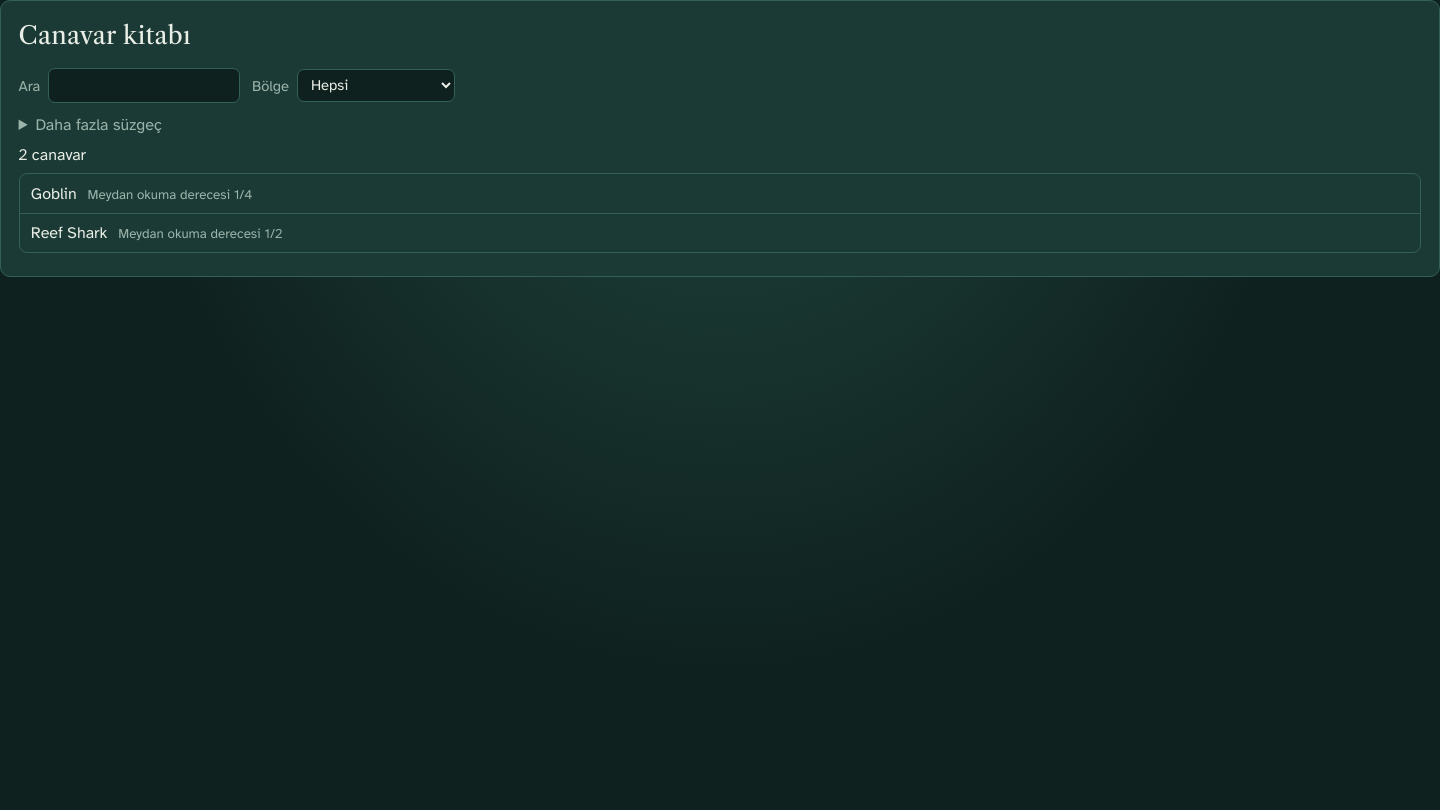
seçilen canavarın stat block değerlerini ve eylemlerini gösterir
Click the button "Goblin Meydan okuma derecesi 1/4" at (54, 194), box x1=20 y1=174 x2=1420 y2=213
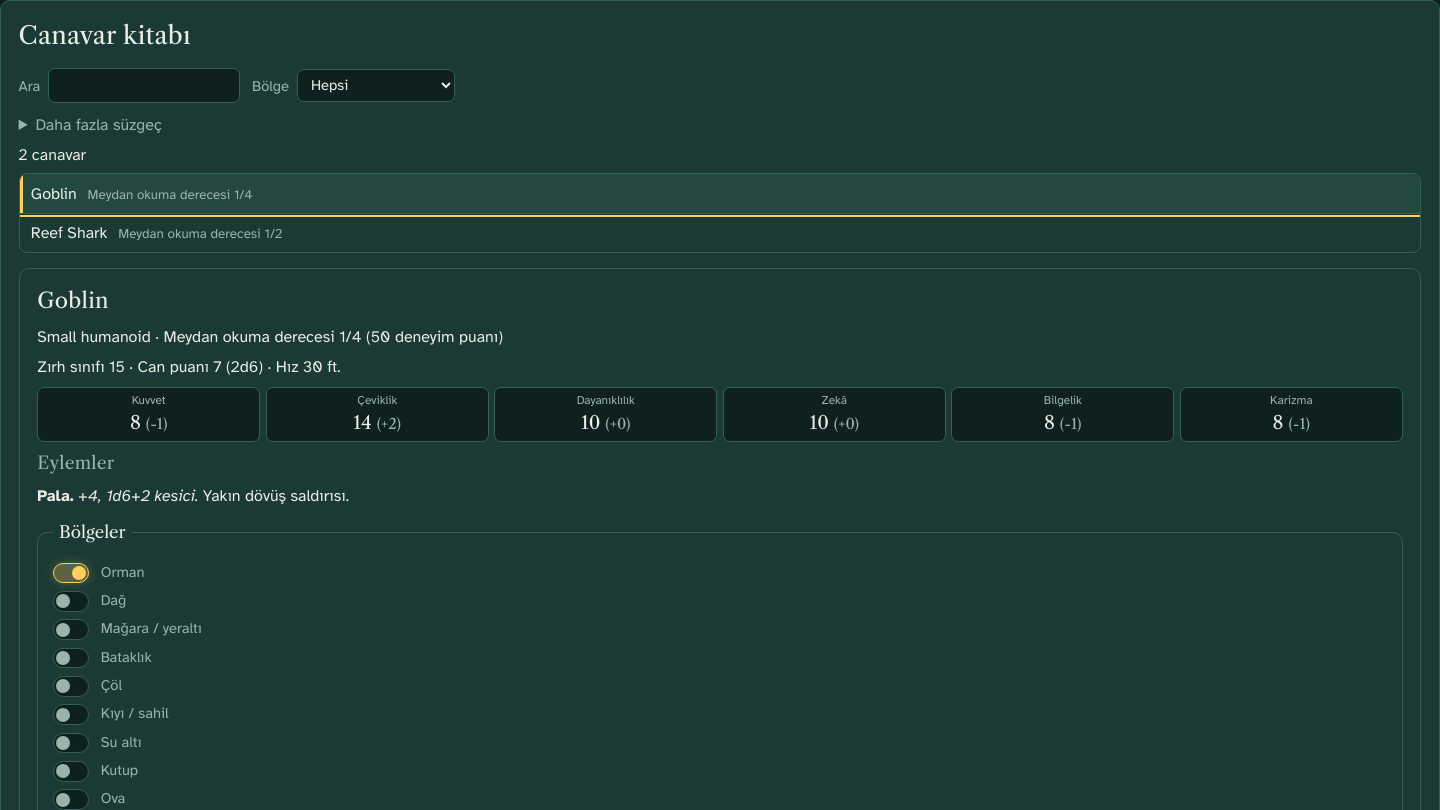
Check: the text "Zırh sınıfı 15 · Can puanı 7 (2d6) · Hız 30 ft." is shown, box x1=37 y1=356 x2=341 y2=376
Check: the text "Pala." is shown, box x1=37 y1=486 x2=74 y2=506
Check: the text "+4, 1d6+2 kesici." is shown, box x1=78 y1=486 x2=203 y2=506
